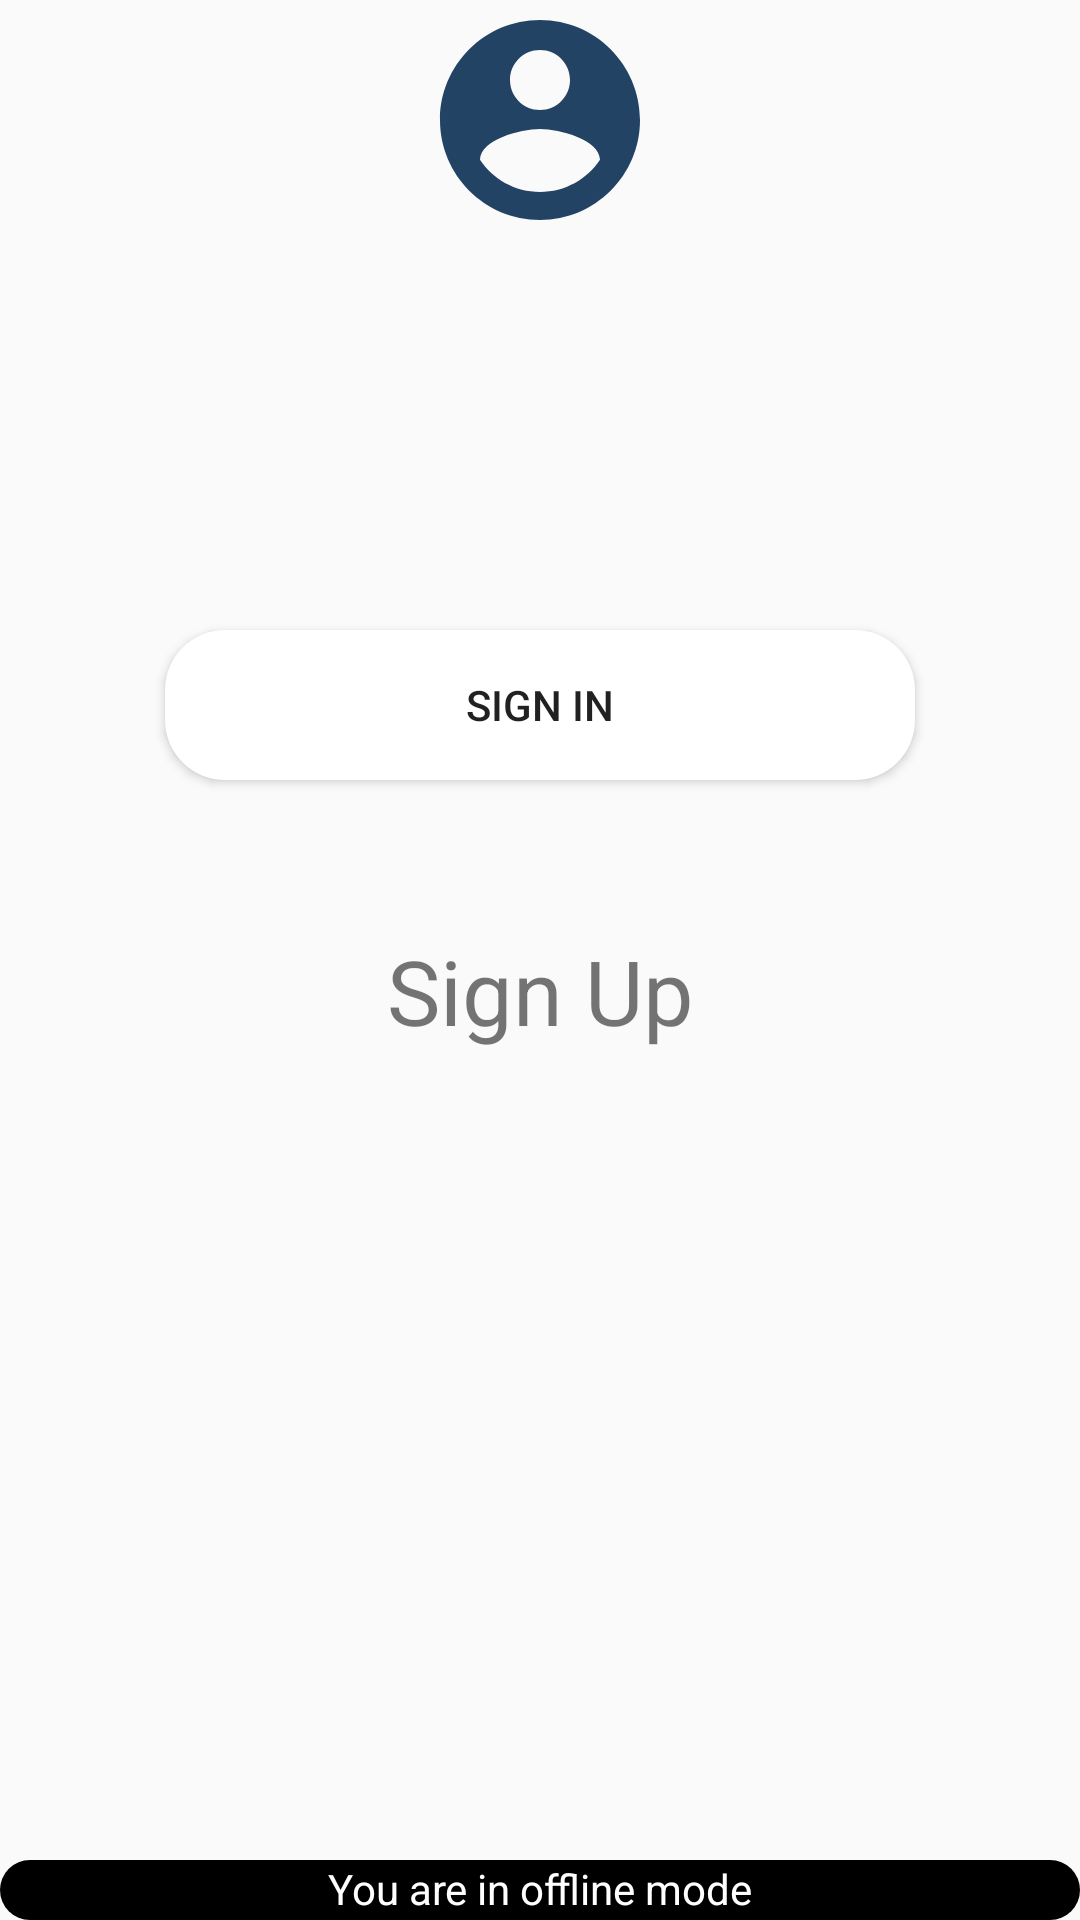

Screen size 1080 x 1920. Icon name, then its center in pixels as (x=x, y=y):
profile: (x=540, y=120)
